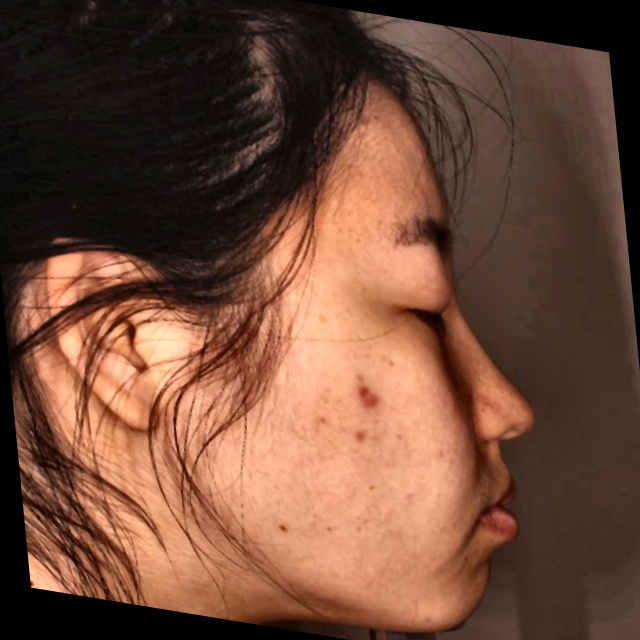comedone: (345, 370, 385, 416), (343, 419, 388, 450)
